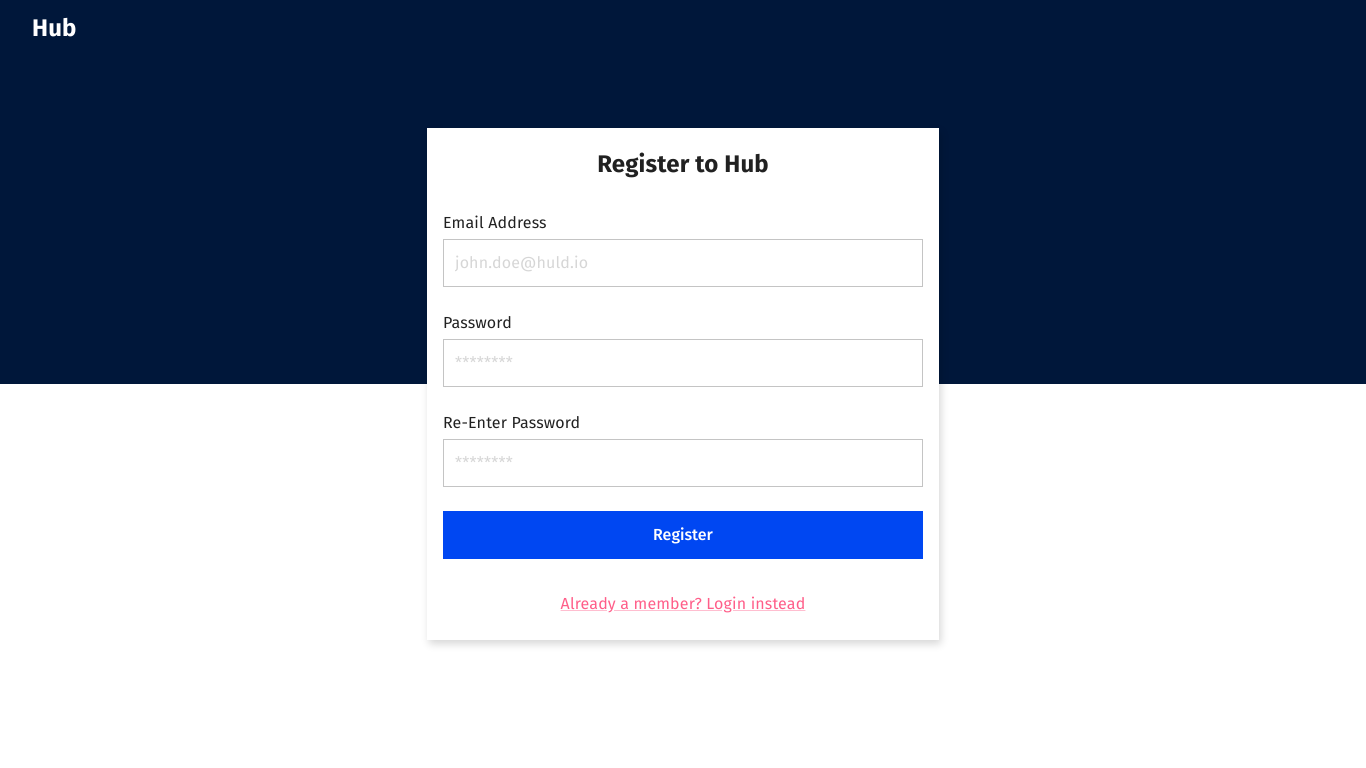
Registration › should warn if passwords don't match
Type "ted.tester@huld.io" into the field named "email". click: [683, 263]
box: x1=443 y1=239 x2=923 y2=287
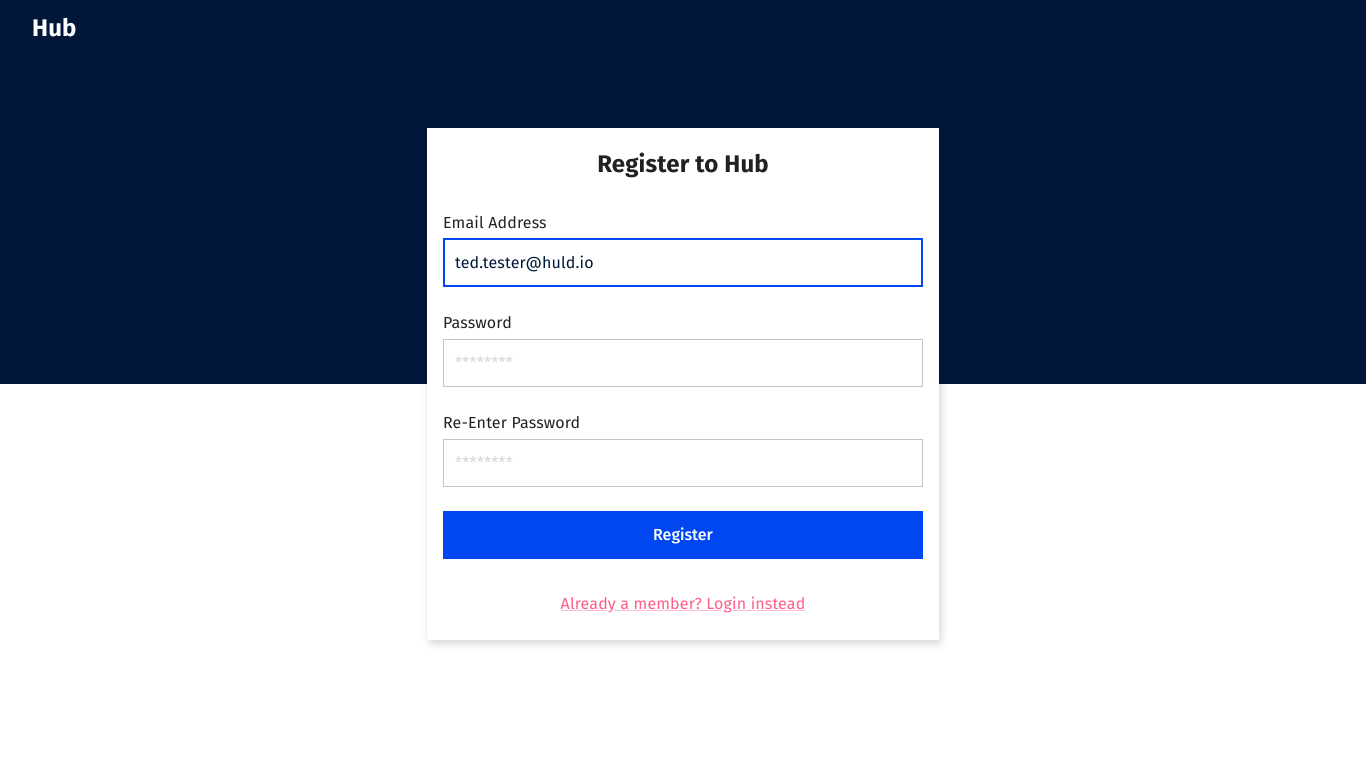
Type "password" into the password field named "password". click: [683, 363]
box: x1=443 y1=339 x2=923 y2=387
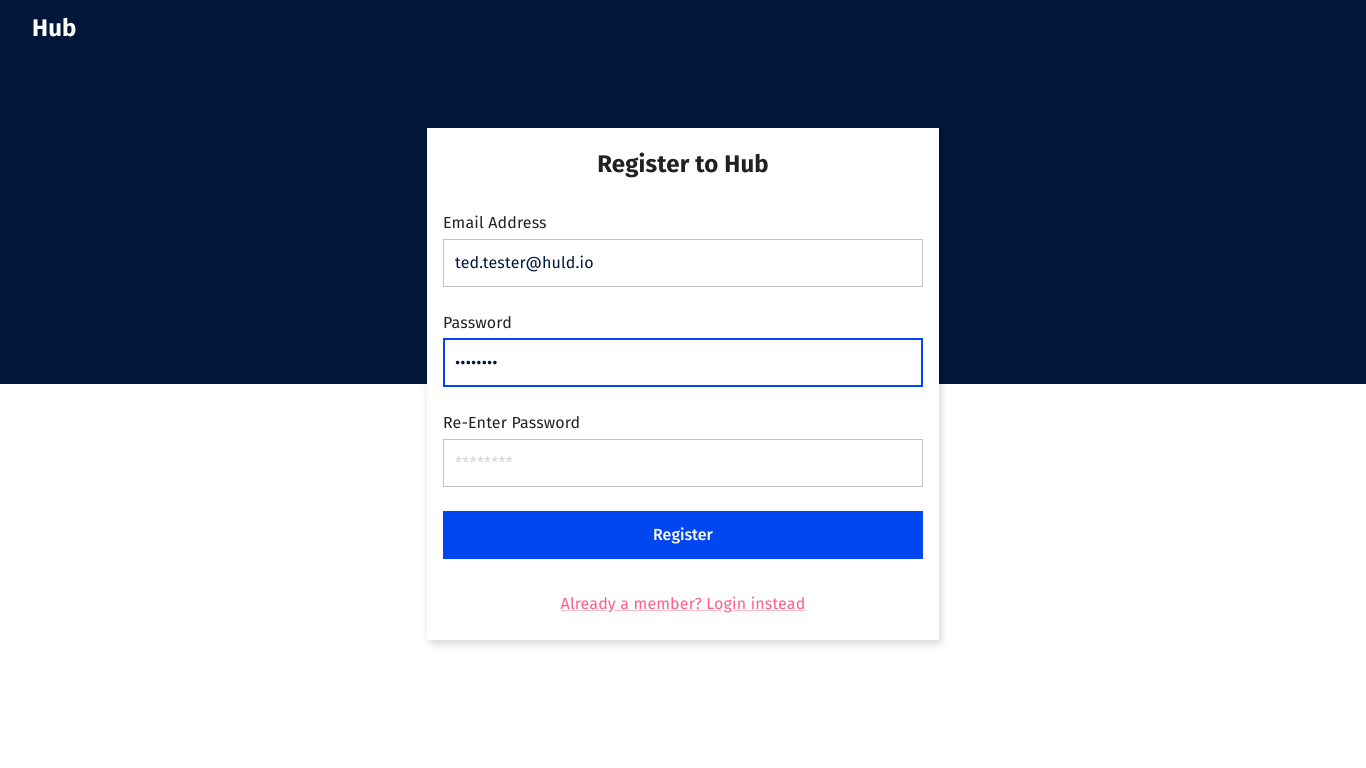
Type "pasword" into the password field named "reEnterPassword". click: [683, 463]
box: x1=443 y1=439 x2=923 y2=487
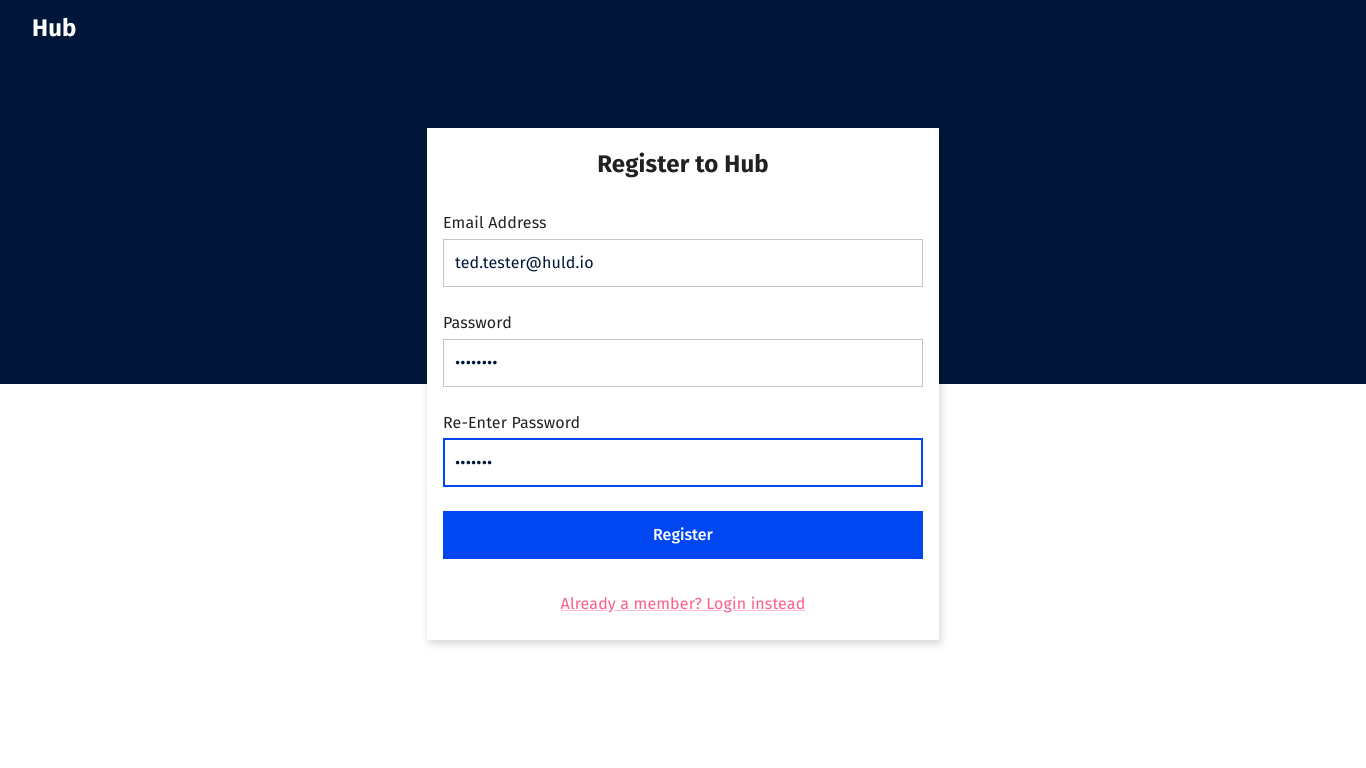
Click the button "Register". click: [683, 535]
box: x1=443 y1=511 x2=923 y2=559
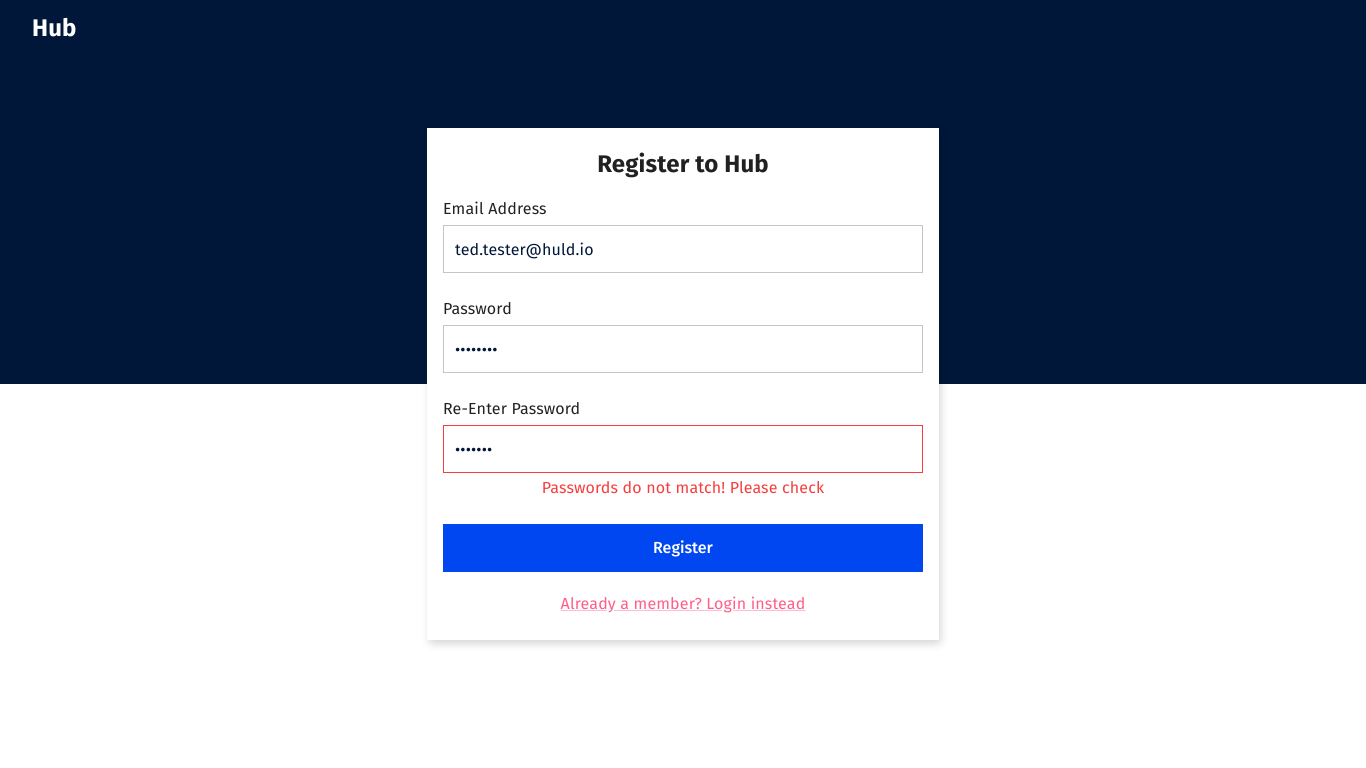
Check: the text "Passwords do not match! Please check" is shown, box x1=542 y1=478 x2=824 y2=497
